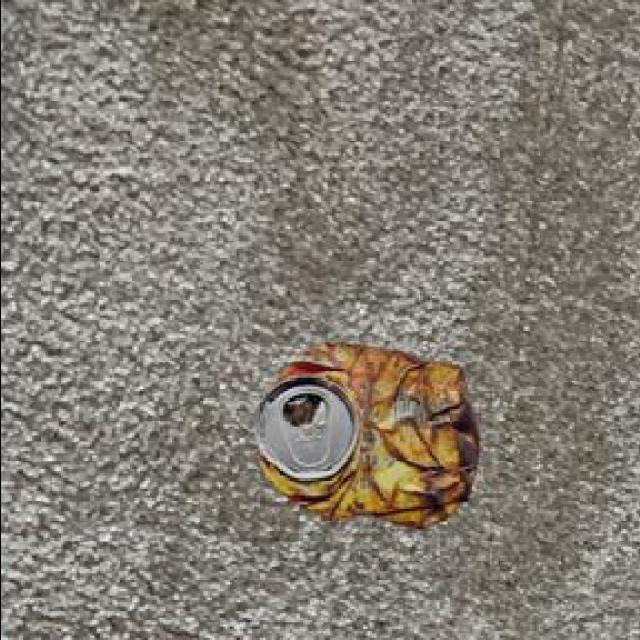logam: (257, 339, 481, 526)
